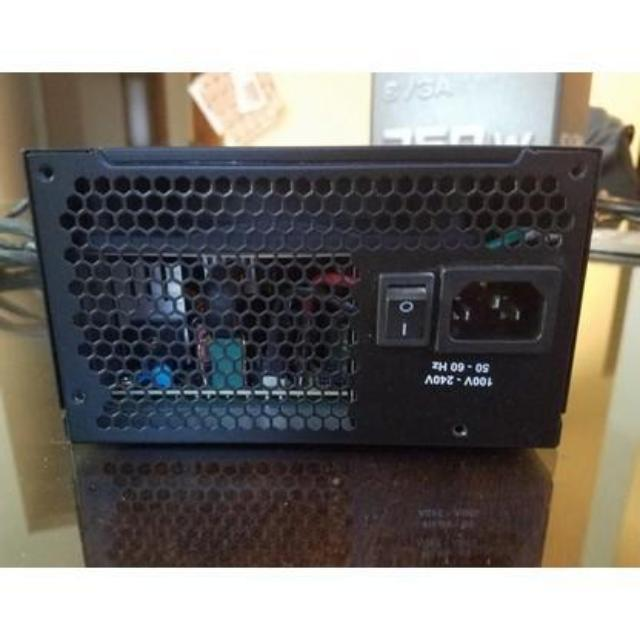PSU: (10, 138, 605, 460)
